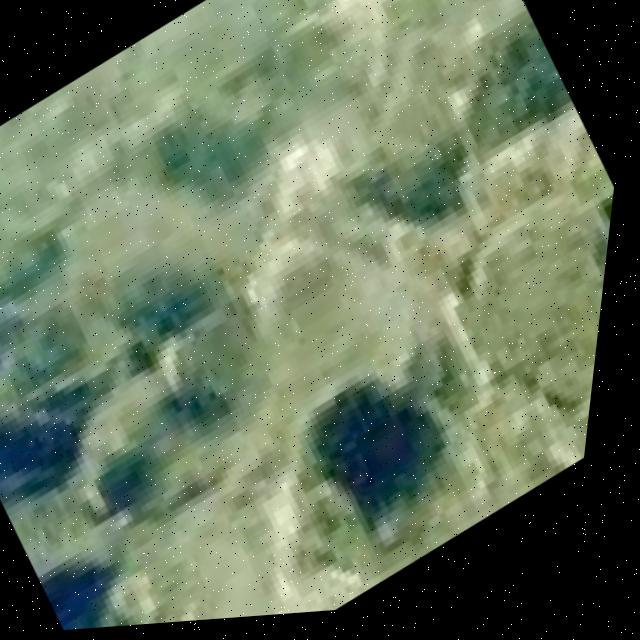Oyster-Indeterminate: (250, 245, 442, 450), (476, 195, 609, 414)
